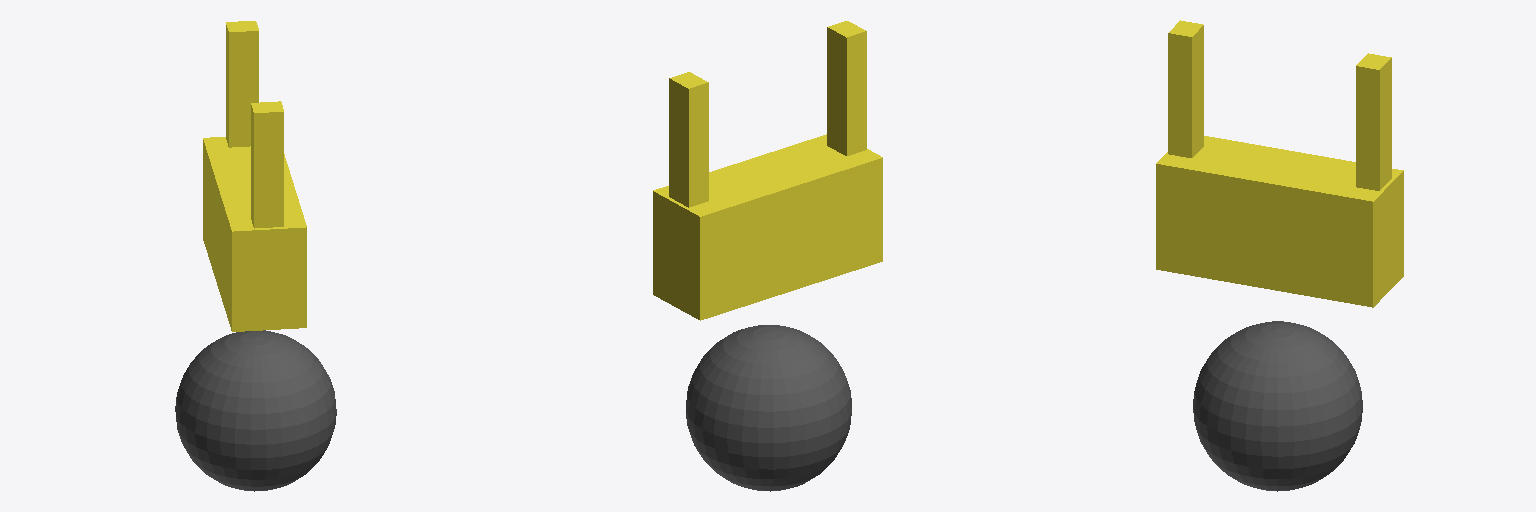
URDF robot description (iiwa14):
<?xml version="1.0" ?>
<!-- =================================================================================== -->
<!-- |    This model is a hand edited version of the original model (see               | -->
<!-- |    iiwa14_primitive_collision.urdf).                                            | -->
<!-- =================================================================================== -->
<!-- ===================================================================== -->
<!-- Collision models: complex meshes can drastically affect run time.
     Therefore some collision models are represented as simple spheres
     instead of meshes. However it's important to have accurate collision
     models for the end of the arm because we anticipate that the end is the
     most likely part of the arm to make contact.
-->
<!-- ===================================================================== -->
<robot name="iiwa14" xmlns:xacro="http://www.ros.org/wiki/xacro">
  <!-- Import Rviz colors -->
  <material name="Black">
    <color rgba="0.0 0.0 0.0 1.0"/>
  </material>
  <material name="Blue">
    <color rgba="0.0 0.0 0.8 1.0"/>
  </material>
  <material name="Green">
    <color rgba="0.0 0.8 0.0 1.0"/>
  </material>
  <material name="Grey">
    <color rgba="0.4 0.4 0.4 1.0"/>
  </material>
  <material name="Orange">
    <color rgba="1.0 0.423529411765 0.0392156862745 1.0"/>
  </material>
  <material name="Brown">
    <color rgba="0.870588235294 0.811764705882 0.764705882353 1.0"/>
  </material>
  <material name="Red">
    <color rgba="0.8 0.0 0.0 1.0"/>
  </material>
  <material name="White">
    <color rgba="1.0 1.0 1.0 1.0"/>
  </material>
  <!-- Defines a base link that will serve as the model's root. -->
  <link name="base"/>
  <!--joint between {parent} and link_0-->
  <joint name="iiwa_base_joint" type="fixed">
    <origin rpy="0 0 0" xyz="0 0 0"/>
    <parent link="base"/>
    <child link="iiwa_link_0"/>
  </joint>
  <link name="iiwa_link_0">
    <inertial>
      <origin rpy="0 0 0" xyz="-0.1 0 0.07"/>
      <mass value="5"/>
      <inertia ixx="0.05" ixy="0" ixz="0" iyy="0.06" iyz="0" izz="0.03"/>
    </inertial>
    <visual>
      <origin rpy="0 0 0" xyz="0 0 0"/>
      <geometry>
        <mesh filename="../meshes/visual/link_0.obj"/>
      </geometry>
      <material name="Grey"/>
    </visual>
    <collision>
      <origin rpy="0 0 0" xyz="-0.015 0 0.07"/>
      <geometry>
        <cylinder length="0.17" radius="0.139"/>
      </geometry>
      <material name="Grey"/>
    </collision>
    <self_collision_checking>
      <origin rpy="0 0 0" xyz="0 0 0"/>
      <geometry>
        <capsule length="0.25" radius="0.15"/>
      </geometry>
    </self_collision_checking>
  </link>
  <!-- joint between link_0 and link_1 -->
  <joint name="iiwa_joint_1" type="revolute">
    <parent link="iiwa_link_0"/>
    <child link="iiwa_link_1"/>
    <origin rpy="0 0 0" xyz="0 0 0.1575"/>
    <axis xyz="0 0 1"/>
    <limit effort="300" lower="-2.96705972839" upper="2.96705972839" velocity="10"/>
    <safety_controller k_position="100" k_velocity="2" soft_lower_limit="-2.93215314335" soft_upper_limit="2.93215314335"/>
    <dynamics damping="0.5"/>
  </joint>
  <link name="iiwa_link_1">
    <inertial>
      <origin rpy="0 0 0" xyz="0 -0.03 0.12"/>
      <mass value="5.76"/>
      <inertia ixx="0.033" ixy="0" ixz="0" iyy="0.0333" iyz="0" izz="0.0123"/>
    </inertial>
    <visual>
      <origin rpy="0 0 0" xyz="0 0 0"/>
      <geometry>
        <mesh filename="../meshes/visual/link_1.obj"/>
      </geometry>
      <material name="Grey"/>
    </visual>
    <collision>
      <origin rpy="0 0 0" xyz="0 -0.03344534434 0.1974815417"/>
      <geometry>
        <sphere radius="0.07959901601"/>
      </geometry>
      <material name="Grey"/>
    </collision>
  </link>
  <!-- joint between link_1 and link_2 -->
  <joint name="iiwa_joint_2" type="revolute">
    <parent link="iiwa_link_1"/>
    <child link="iiwa_link_2"/>
    <origin rpy="1.57079632679   0 3.14159265359" xyz="0 0 0.2025"/>
    <axis xyz="0 0 1"/>
    <limit effort="300" lower="-2.09439510239" upper="2.09439510239" velocity="10"/>
    <safety_controller k_position="100" k_velocity="2" soft_lower_limit="-2.05948851735" soft_upper_limit="2.05948851735"/>
    <dynamics damping="0.5"/>
  </joint>
  <link name="iiwa_link_2">
    <inertial>
      <origin rpy="0 0 0" xyz="0.0003 0.059 0.042"/>
      <mass value="6.35"/>
      <!-- 3.95 kuka CAD value-->
      <!--4 Original Drake URDF value-->
      <inertia ixx="0.0305" ixy="0" ixz="0" iyy="0.0304" iyz="0" izz="0.011"/>
    </inertial>
    <visual>
      <origin rpy="0 0 0" xyz="0 0 0"/>
      <geometry>
        <mesh filename="../meshes/visual/link_2.obj"/>
      </geometry>
      <material name="Orange"/>
    </visual>
    <collision>
      <origin rpy="0 0 0" xyz="-2.488800594e-017 0.203225991 -0.002065464272"/>
      <geometry>
        <sphere radius="0.06602481863"/>
      </geometry>
      <material name="Orange"/>
    </collision>
    <collision>
      <origin rpy="0 0 0" xyz="3.940519658e-019 -0.003217678485 0.05239182903"/>
      <geometry>
        <sphere radius="0.07959901601"/>
      </geometry>
      <material name="Orange"/>
    </collision>
  </link>
  <!-- joint between link_2 and link_3 -->
  <joint name="iiwa_joint_3" type="revolute">
    <parent link="iiwa_link_2"/>
    <child link="iiwa_link_3"/>
    <origin rpy="1.57079632679 0 3.14159265359" xyz="0 0.2045 0"/>
    <axis xyz="0 0 1"/>
    <limit effort="300" lower="-2.96705972839" upper="2.96705972839" velocity="10"/>
    <safety_controller k_position="100" k_velocity="2" soft_lower_limit="-2.05948851735" soft_upper_limit="2.05948851735"/>
    <dynamics damping="0.5"/>
  </joint>
  <link name="iiwa_link_3">
    <inertial>
      <origin rpy="0 0 0" xyz="0 0.03 0.13"/>
      <mass value="3.5"/>
      <!--3.18 kuka CAD value-->
      <!--3 Original Drake URDF value-->
      <inertia ixx="0.025" ixy="0" ixz="0" iyy="0.0238" iyz="0" izz="0.0076"/>
    </inertial>
    <visual>
      <origin rpy="0 0 0" xyz="0 0 0"/>
      <geometry>
        <mesh filename="../meshes/visual/link_3.obj"/>
      </geometry>
      <material name="Grey"/>
    </visual>
    <collision>
      <origin rpy="0 0 0" xyz="7.416339176e-017 0.05241123123 0.213459395"/>
      <geometry>
        <sphere radius="0.06062598796"/>
      </geometry>
      <material name="Grey"/>
    </collision>
    <collision>
      <origin rpy="0 0 0" xyz="4.599245085e-017 -0.002046062069 0.03788349888"/>
      <geometry>
        <sphere radius="0.06602481863"/>
      </geometry>
      <material name="Grey"/>
    </collision>
    <collision>
      <origin rpy="0 0 0" xyz="5.592688496e-017 -0.001027406431 0.2148769469"/>
      <geometry>
        <sphere radius="0.06799385346"/>
      </geometry>
      <material name="Grey"/>
    </collision>
  </link>
  <!-- joint between link_3 and link_4 -->
  <joint name="iiwa_joint_4" type="revolute">
    <parent link="iiwa_link_3"/>
    <child link="iiwa_link_4"/>
    <origin rpy="1.57079632679 0 0" xyz="0 0 0.2155"/>
    <axis xyz="0 0 1"/>
    <limit effort="300" lower="-2.09439510239" upper="2.09439510239" velocity="10"/>
    <safety_controller k_position="100" k_velocity="2" soft_lower_limit="-2.05948851735" soft_upper_limit="2.05948851735"/>
    <dynamics damping="0.5"/>
  </joint>
  <link name="iiwa_link_4">
    <inertial>
      <origin rpy="0 0 0" xyz="0 0.067 0.034"/>
      <mass value="3.5"/>
      <!--2.74 kuka CAD value-->
      <!--2.7 Original Drake URDF value-->
      <inertia ixx="0.017" ixy="0" ixz="0" iyy="0.0164" iyz="0" izz="0.006"/>
    </inertial>
    <visual>
      <origin rpy="0 0 0" xyz="0 0 0"/>
      <geometry>
        <mesh filename="../meshes/visual/link_4.obj"/>
      </geometry>
      <material name="Orange"/>
    </visual>
    <collision>
      <origin rpy="0 0 0" xyz="2.212061137e-017 0.1787589211 -0.001869578351"/>
      <geometry>
        <sphere radius="0.06644602201"/>
      </geometry>
      <material name="Orange"/>
    </collision>
    <collision>
      <origin rpy="0 0 0" xyz="-6.09471084e-018 0.003913255811 0.05368034657"/>
      <geometry>
        <sphere radius="0.05993984276"/>
      </geometry>
      <material name="Orange"/>
    </collision>
  </link>
  <!-- joint between link_4 and link_5 -->
  <joint name="iiwa_joint_5" type="revolute">
    <parent link="iiwa_link_4"/>
    <child link="iiwa_link_5"/>
    <origin rpy="-1.57079632679 3.14159265359 0" xyz="0 0.1845 0"/>
    <axis xyz="0 0 1"/>
    <limit effort="300" lower="-2.96705972839" upper="2.96705972839" velocity="10"/>
    <safety_controller k_position="100" k_velocity="2" soft_lower_limit="-2.05948851735" soft_upper_limit="2.05948851735"/>
    <dynamics damping="0.5"/>
  </joint>
  <link name="iiwa_link_5">
    <inertial>
      <origin rpy="0 0 0" xyz="0.0001 0.021 0.076"/>
      <mass value="3.5"/>
      <!--1.69 kuka CAD value-->
      <!--1.7 Original Drake URDF value-->
      <inertia ixx="0.01" ixy="0" ixz="0" iyy="0.0087" iyz="0" izz="0.00449"/>
    </inertial>
    <visual>
      <origin rpy="0 0 0" xyz="0 0 0"/>
      <geometry>
        <mesh filename="../meshes/visual/link_5.obj"/>
      </geometry>
      <material name="Grey"/>
    </visual>
    <collision>
      <origin rpy="0 0 0" xyz="3.178830537e-017 0.0445161559 0.2150550559"/>
      <geometry>
        <sphere radius="0.05281876964"/>
      </geometry>
      <material name="Grey"/>
    </collision>
    <collision>
      <origin rpy="0 0 0" xyz="3.716540503e-018 9.478746123e-005 0.0302530688"/>
      <geometry>
        <sphere radius="0.06644602201"/>
      </geometry>
      <material name="Grey"/>
    </collision>
  </link>
  <!-- joint between link_5 and link_6 -->
  <joint name="iiwa_joint_6" type="revolute">
    <parent link="iiwa_link_5"/>
    <child link="iiwa_link_6"/>
    <origin rpy="1.57079632679 0 0" xyz="0 0 0.2155"/>
    <axis xyz="0 0 1"/>
    <limit effort="300" lower="-2.09439510239" upper="2.09439510239" velocity="10"/>
    <safety_controller k_position="100" k_velocity="2" soft_lower_limit="-2.05948851735" soft_upper_limit="2.05948851735"/>
    <dynamics damping="0.5"/>
  </joint>
  <link name="iiwa_link_6">
    <inertial>
      <origin rpy="0 0 0" xyz="0 0.0006 0.0004"/>
      <mass value="1.8"/>
      <!--1.8 kuka CAD value-->
      <!--1.8 Original Drake URDF value-->
      <inertia ixx="0.0049" ixy="0" ixz="0" iyy="0.0047" iyz="0" izz="0.0036"/>
    </inertial>
    <visual>
      <origin rpy="0 0 0" xyz="0 0 0"/>
      <geometry>
        <mesh filename="../meshes/visual/link_6.obj"/>
      </geometry>
      <material name="Orange"/>
    </visual>
    <collision>
      <origin rpy="0 0 0" xyz="-2.904627567e-018 -0.01623589495 0.00748218906"/>
      <geometry>
        <sphere radius="0.06341754633"/>
      </geometry>
      <material name="Orange"/>
    </collision>
  </link>
  <!-- joint between link_6 and link_7 -->
  <joint name="iiwa_joint_7" type="revolute">
    <parent link="iiwa_link_6"/>
    <child link="iiwa_link_7"/>
    <origin rpy="-1.57079632679 3.14159265359 0" xyz="0 0.081 0"/>
    <axis xyz="0 0 1"/>
    <limit effort="300" lower="-3.05432619099" upper="3.05432619099" velocity="10"/>
    <safety_controller k_position="100" k_velocity="2" soft_lower_limit="-3.01941960595" soft_upper_limit="3.01941960595"/>
    <dynamics damping="0.5"/>
  </joint>
  <link name="iiwa_link_7">
    <inertial>
      <origin rpy="0 0 0" xyz="0 0 0.02"/>
      <mass value="1.2"/>
      <!--0.31 kuka CAD value-->
      <!--0.3 Original Drake URDF value-->
      <inertia ixx="0.001" ixy="0" ixz="0" iyy="0.001" iyz="0" izz="0.001"/>
    </inertial>
    <visual>
      <!--
      <origin rpy="0 0 0" xyz="0 0 0"/>
      <geometry>
        <mesh filename="../meshes/visual/link_7.obj"/>
      </geometry>
      <material name="Grey"/>
      -->
      <origin rpy="0 0 0" xyz="-3.533832164e-019 -0.001260393754 -0.001625199191"/>
      <geometry>
        <sphere radius="0.05285650291"/>
      </geometry>
      <material name="Grey"/>
    </visual>
    <collision>
      <origin rpy="0 0 0" xyz="-3.533832164e-019 -0.001260393754 -0.001625199191"/>
      <geometry>
        <sphere radius="0.05285650291"/>
      </geometry>
      <material name="Grey"/>
    </collision>
  </link>
  <joint name="iiwa_joint_ee" type="fixed">
    <parent link="iiwa_link_7"/>
    <child link="iiwa_link_ee_kuka"/>
    <origin rpy="3.14159265359 3.14159265359 3.14159265359" xyz="0 0 0.045"/>
    <axis xyz="0 0 1"/>
  </joint>
  <link name="iiwa_link_ee_kuka">
    </link>
  <joint name="tool0_joint" type="fixed">
    <parent link="iiwa_link_7"/>
    <child link="iiwa_link_ee"/>
    <origin rpy="0 -1.57079632679 0" xyz="0 0 0.045"/>
  </joint>
  <link name="iiwa_link_ee">
    </link>
  <frame link="iiwa_link_ee" name="iiwa_frame_ee" rpy="3.14159265359 0 1.57079632679" xyz="0.09 0 0"/>
  <link name="gripper">
    <!--body-->
    <visual>
      <origin rpy="0 0 0" xyz="-0.049133 0 0"/>
      <geometry>
        <box size="0.0725 0.146 0.049521"/>
      </geometry>
    </visual>
    <!--left finger-->
    <visual>
      <origin rpy="0 0 0" xyz="0.029 -0.063 0"/>
      <geometry>
        <box size="0.083 0.016 0.02"/>
      </geometry>
    </visual>
    <!--right finger-->
    <visual>
      <origin rpy="0 0 0" xyz="0.029 0.063 0"/>
      <geometry>
        <box size="0.083 0.016 0.02"/>
      </geometry>
    </visual>
    <!--body-->
    <collision group="gripper_finger">
      <origin rpy="0 0 0" xyz="-0.049133 0 0"/>
      <geometry>
        <box size="0.0725 0.146 0.049521"/>
      </geometry>
    </collision>
    <!--left finger-->
    <collision group="gripper_finger">
      <origin rpy="0 0 0" xyz="0.029 -0.063 0"/>
      <geometry>
        <box size="0.083 0.016 0.02"/>
      </geometry>
    </collision>
    <!--right finger-->
    <collision group="gripper_finger">
      <origin rpy="0 0 0" xyz="0.029 0.063 0"/>
      <geometry>
        <box size="0.083 0.016 0.02"/>
      </geometry>
    </collision>
  </link>
  <joint name="gripper_joint" type="fixed">
    <parent link="iiwa_link_ee"/>
    <child link="gripper"/>
    <origin rpy="-0.39269908 0 0" xyz="0.13 0 0"/>
  </joint>
  <!-- Load Gazebo lib and set the robot namespace -->
  <gazebo>
    <plugin filename="libgazebo_ros_control.so" name="gazebo_ros_controller">
      <robotNamespace>/iiwa</robotNamespace>
    </plugin>
  </gazebo>
  <!-- Link0 -->
  <gazebo reference="iiwa_link_0">
    <material>Gazebo/Grey</material>
    <mu1>0.2</mu1>
    <mu2>0.2</mu2>
  </gazebo>
  <!-- Link1 -->
  <gazebo reference="iiwa_link_1">
    <material>Gazebo/Orange</material>
    <mu1>0.2</mu1>
    <mu2>0.2</mu2>
  </gazebo>
  <!-- Link2 -->
  <gazebo reference="iiwa_link_2">
    <material>Gazebo/Orange</material>
    <mu1>0.2</mu1>
    <mu2>0.2</mu2>
  </gazebo>
  <!-- Link3 -->
  <gazebo reference="iiwa_link_3">
    <material>Gazebo/Orange</material>
    <mu1>0.2</mu1>
    <mu2>0.2</mu2>
  </gazebo>
  <!-- Link4 -->
  <gazebo reference="iiwa_link_4">
    <material>Gazebo/Orange</material>
    <mu1>0.2</mu1>
    <mu2>0.2</mu2>
  </gazebo>
  <!-- Link5 -->
  <gazebo reference="iiwa_link_5">
    <material>Gazebo/Orange</material>
    <mu1>0.2</mu1>
    <mu2>0.2</mu2>
  </gazebo>
  <!-- Link6 -->
  <gazebo reference="iiwa_link_6">
    <material>Gazebo/Orange</material>
    <mu1>0.2</mu1>
    <mu2>0.2</mu2>
  </gazebo>
  <!-- Link7 -->
  <gazebo reference="iiwa_link_7">
    <material>Gazebo/Grey</material>
    <mu1>0.2</mu1>
    <mu2>0.2</mu2>
  </gazebo>
  <transmission name="iiwa_tran_1">
    <robotNamespace>/iiwa</robotNamespace>
    <type>transmission_interface/SimpleTransmission</type>
    <joint name="iiwa_joint_1">
      <hardwareInterface>PositionJointInterface</hardwareInterface>
    </joint>
    <actuator name="iiwa_motor_1">
      <hardwareInterface>PositionJointInterface</hardwareInterface>
      <mechanicalReduction>1</mechanicalReduction>
    </actuator>
  </transmission>
  <transmission name="iiwa_tran_2">
    <robotNamespace>/iiwa</robotNamespace>
    <type>transmission_interface/SimpleTransmission</type>
    <joint name="iiwa_joint_2">
      <hardwareInterface>PositionJointInterface</hardwareInterface>
    </joint>
    <actuator name="iiwa_motor_2">
      <hardwareInterface>PositionJointInterface</hardwareInterface>
      <mechanicalReduction>1</mechanicalReduction>
    </actuator>
  </transmission>
  <transmission name="iiwa_tran_3">
    <robotNamespace>/iiwa</robotNamespace>
    <type>transmission_interface/SimpleTransmission</type>
    <joint name="iiwa_joint_3">
      <hardwareInterface>PositionJointInterface</hardwareInterface>
    </joint>
    <actuator name="iiwa_motor_3">
      <hardwareInterface>PositionJointInterface</hardwareInterface>
      <mechanicalReduction>1</mechanicalReduction>
    </actuator>
  </transmission>
  <transmission name="iiwa_tran_4">
    <robotNamespace>/iiwa</robotNamespace>
    <type>transmission_interface/SimpleTransmission</type>
    <joint name="iiwa_joint_4">
      <hardwareInterface>PositionJointInterface</hardwareInterface>
    </joint>
    <actuator name="iiwa_motor_4">
      <hardwareInterface>PositionJointInterface</hardwareInterface>
      <mechanicalReduction>1</mechanicalReduction>
    </actuator>
  </transmission>
  <transmission name="iiwa_tran_5">
    <robotNamespace>/iiwa</robotNamespace>
    <type>transmission_interface/SimpleTransmission</type>
    <joint name="iiwa_joint_5">
      <hardwareInterface>PositionJointInterface</hardwareInterface>
    </joint>
    <actuator name="iiwa_motor_5">
      <hardwareInterface>PositionJointInterface</hardwareInterface>
      <mechanicalReduction>1</mechanicalReduction>
    </actuator>
  </transmission>
  <transmission name="iiwa_tran_6">
    <robotNamespace>/iiwa</robotNamespace>
    <type>transmission_interface/SimpleTransmission</type>
    <joint name="iiwa_joint_6">
      <hardwareInterface>PositionJointInterface</hardwareInterface>
    </joint>
    <actuator name="iiwa_motor_6">
      <hardwareInterface>PositionJointInterface</hardwareInterface>
      <mechanicalReduction>1</mechanicalReduction>
    </actuator>
  </transmission>
  <transmission name="iiwa_tran_7">
    <robotNamespace>/iiwa</robotNamespace>
    <type>transmission_interface/SimpleTransmission</type>
    <joint name="iiwa_joint_7">
      <hardwareInterface>PositionJointInterface</hardwareInterface>
    </joint>
    <actuator name="iiwa_motor_7">
      <hardwareInterface>PositionJointInterface</hardwareInterface>
      <mechanicalReduction>1</mechanicalReduction>
    </actuator>
  </transmission>
  <collision_filter_group name="wrist">
    <member link="iiwa_link_5"/>
    <member link="iiwa_link_6"/>
    <member link="iiwa_link_7"/>
    <member link="gripper"/>
    <ignored_collision_filter_group collision_filter_group="wrist"/>
  </collision_filter_group>
</robot>

--- What the picture shows (computed from the rendered views, not written in the file) ---
The picture shows the robot from 3 angles, left to right: view 1: azimuth 30°, elevation 25°; view 2: azimuth 150°, elevation 25°; view 3: azimuth 270°, elevation 25°; orthographic projection.
Model iiwa14 with 12 links and 11 joints (7 revolute, 4 fixed), rooted at base, posed all joints at 0.
Links seen in each view (by area): view 1: gripper, iiwa_link_7; view 2: gripper, iiwa_link_7; view 3: gripper, iiwa_link_7.
Link boxes in pixels (box(x1,y1,x2,y2)): gripper: box(203, 21, 306, 331); iiwa_link_7: box(175, 330, 336, 491); gripper: box(653, 21, 882, 320); iiwa_link_7: box(686, 325, 851, 491); gripper: box(1156, 20, 1403, 307); iiwa_link_7: box(1193, 321, 1362, 491).
Bounding box of the posed robot: 0.1057 × 0.1538 × 0.3 m (x, y, z).
Meshes: 7 distinct files referenced, 0 mesh visuals loaded (none loaded); not drawn: 7 (reference not matched to a file when rendering).